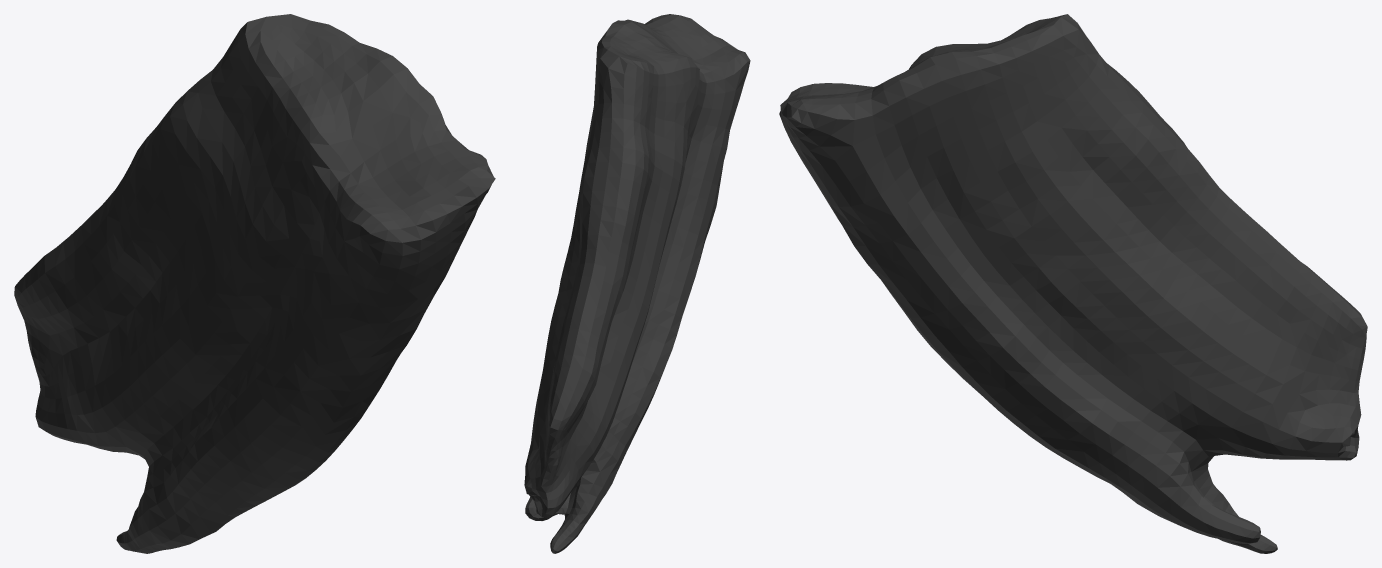
The model's file is L_mand_M3_copy000.glb.
The picture shows the model from 3 angles, left to right: view 1: azimuth 30°, elevation 25°; view 2: azimuth 150°, elevation 25°; view 3: azimuth 270°, elevation 25°; orthographic projection. The views are drawn at different scales.
Visible parts, largest first — view 1: L_mand_M3_copy000; view 2: L_mand_M3_copy000; view 3: L_mand_M3_copy000.
Boxes of the visible parts, box(x1,y1,x2,y2) form: L_mand_M3_copy000: box(14, 14, 495, 553); L_mand_M3_copy000: box(524, 14, 750, 553); L_mand_M3_copy000: box(779, 14, 1367, 553).
Size of the model in its own units: 0.0898 by 0.2871 by 0.279.
1 material, 1 textured.
